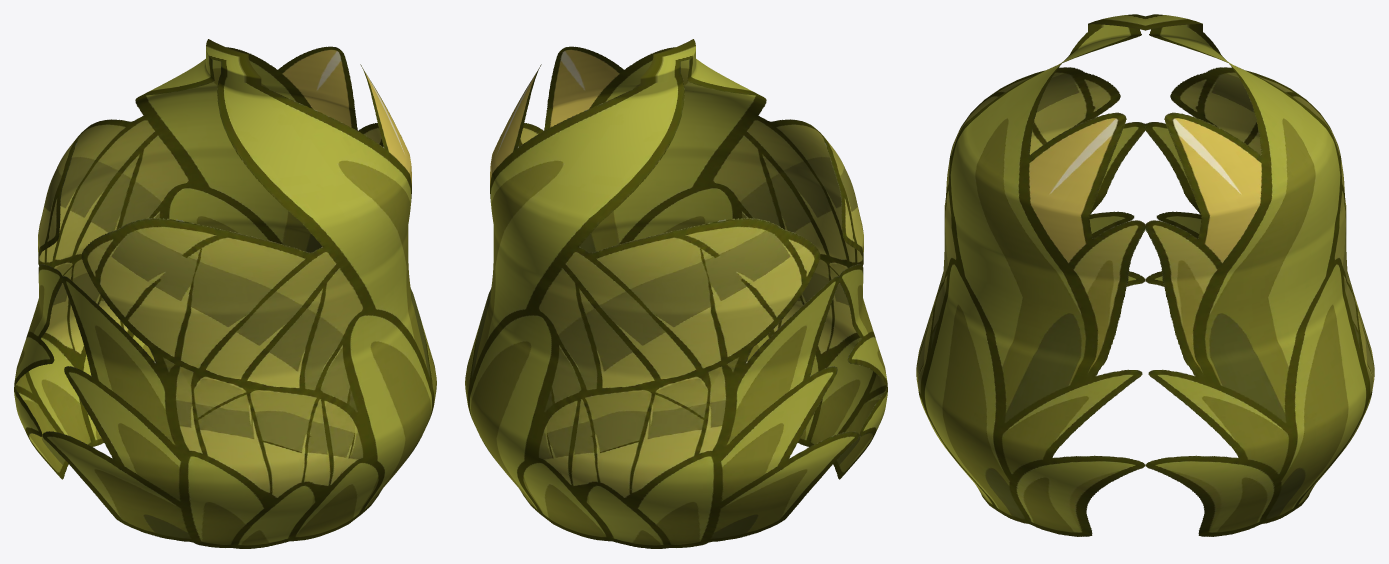
File: blade_leaf_clump.glb
The picture shows the model from 3 angles, left to right: view 1: azimuth 30°, elevation 25°; view 2: azimuth 150°, elevation 25°; view 3: azimuth 270°, elevation 25°; orthographic projection. The views are drawn at different scales.
Parts seen in each view (by area): view 1: blade_leaf_clump; view 2: blade_leaf_clump; view 3: blade_leaf_clump.
Part boxes in pixels (left/top/right/bottom): blade_leaf_clump: left=14, top=39, right=436, bottom=548; blade_leaf_clump: left=465, top=39, right=887, bottom=548; blade_leaf_clump: left=916, top=14, right=1374, bottom=536.
Bounding box in the file's own units: 1 × 1.11 × 0.9995.
Materials: 1 (1 with a texture image).
